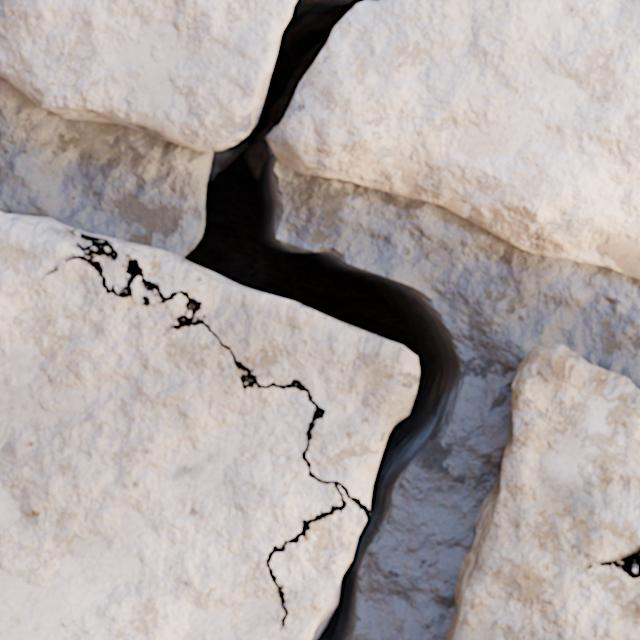broken_brick: (271, 0, 639, 278), (0, 0, 295, 151)
crack: (0, 0, 463, 639), (445, 344, 639, 639)
